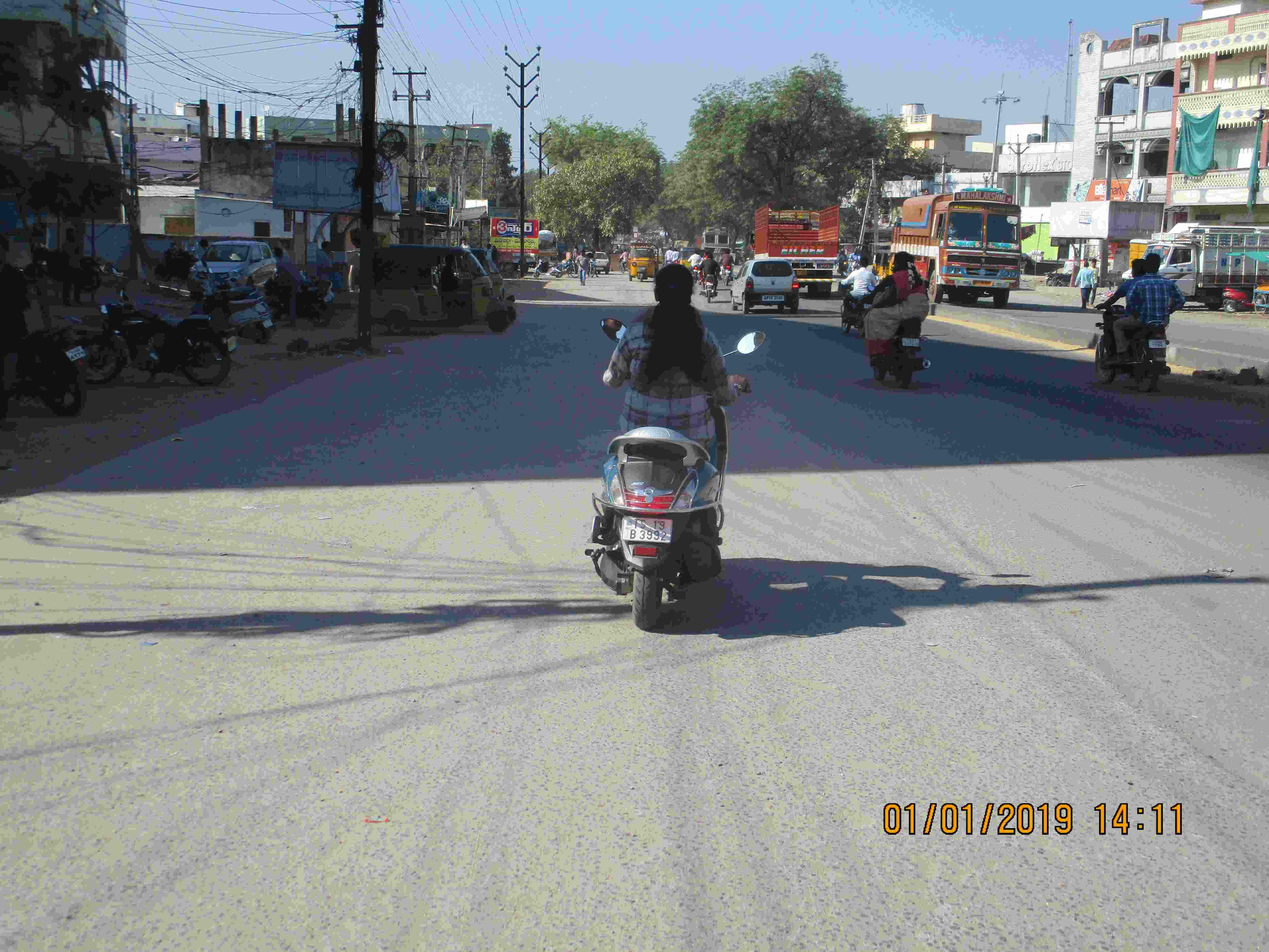plate: (618, 512, 675, 548)
